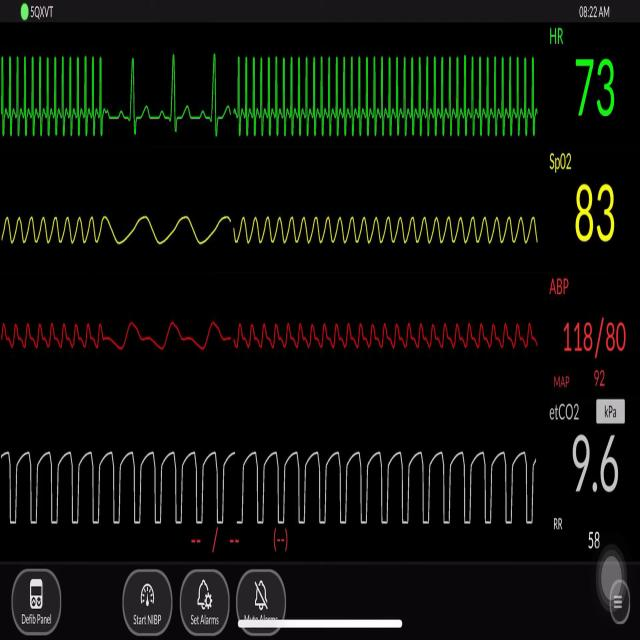danger: (234, 43, 543, 146), (6, 43, 106, 144)
